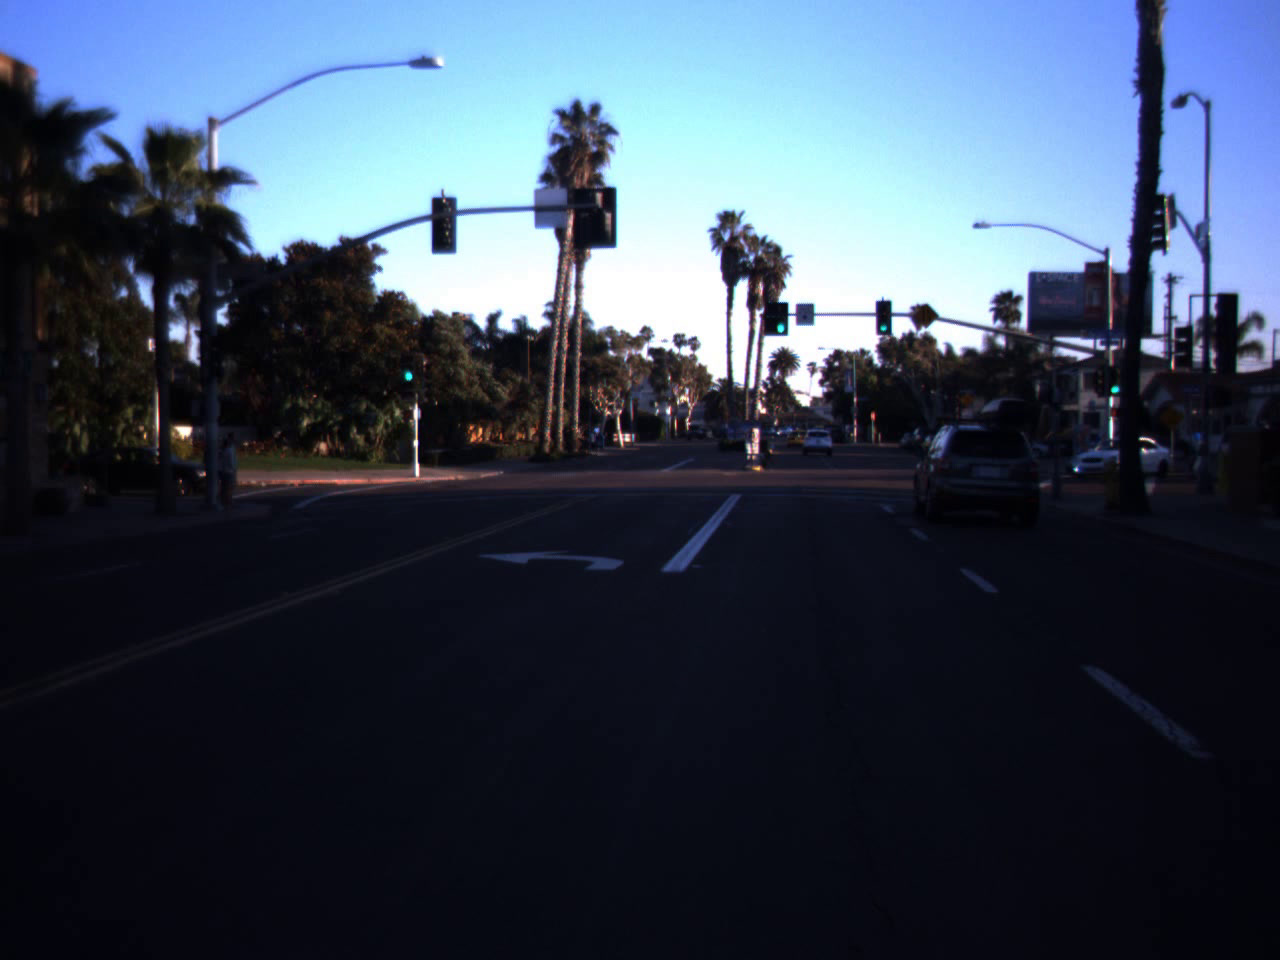go: (400, 348, 418, 383), (772, 300, 790, 335), (875, 311, 890, 331)
